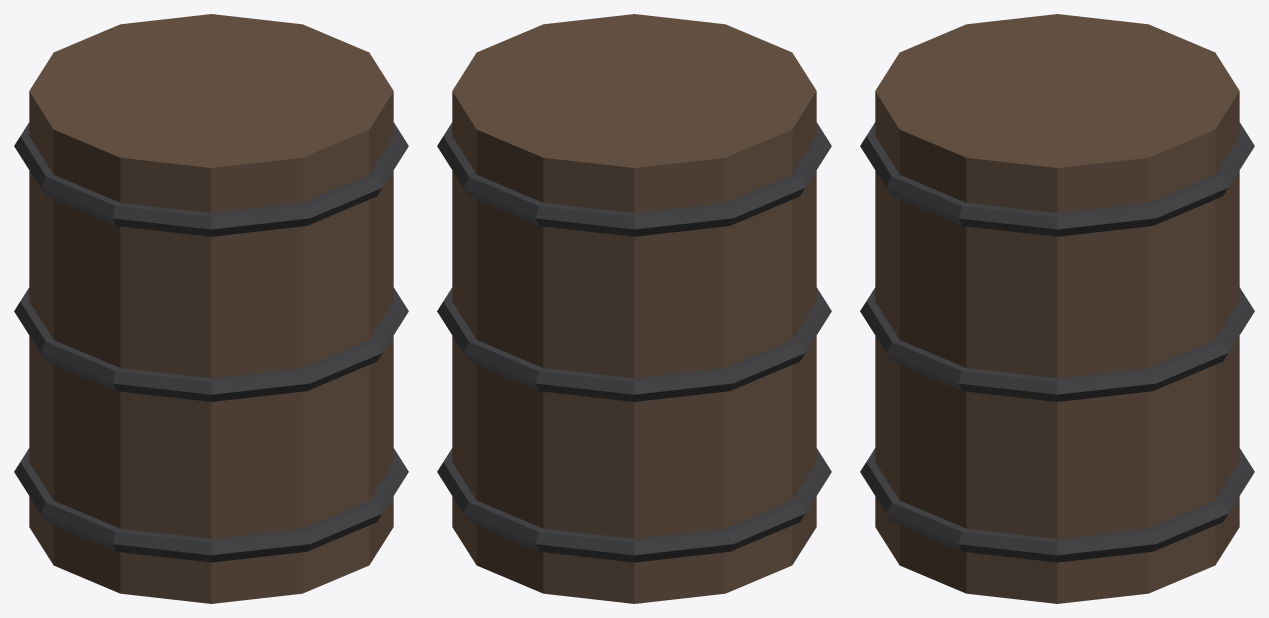
File: barrel.glb
3 renders of one model, left to right at view 1: azimuth 30°, elevation 25°; view 2: azimuth 150°, elevation 25°; view 3: azimuth 270°, elevation 25°, orthographic.
Visible parts, largest first — view 1: barrel; view 2: barrel; view 3: barrel.
Part boxes in pixels (x1=…): barrel: x1=14, y1=14, x2=408, y2=603; barrel: x1=437, y1=14, x2=831, y2=603; barrel: x1=860, y1=14, x2=1254, y2=603.
Size of the model in its own units: 0.78 by 0.95 by 0.78.
